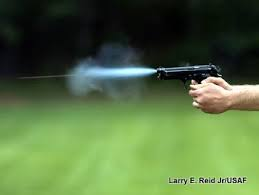Gun: (150, 60, 225, 87)
